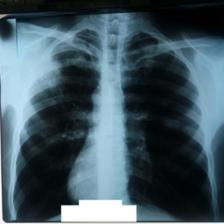tuberculosis: (12, 24, 214, 224)
